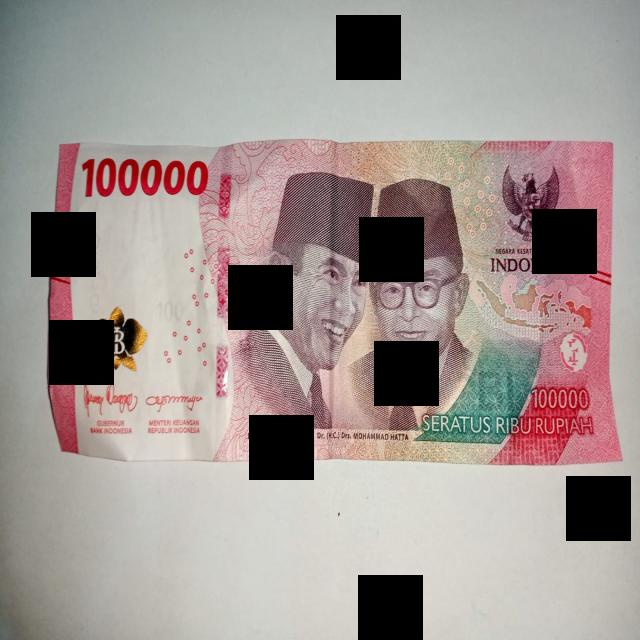seratusribu rupiah: (49, 140, 621, 465)
